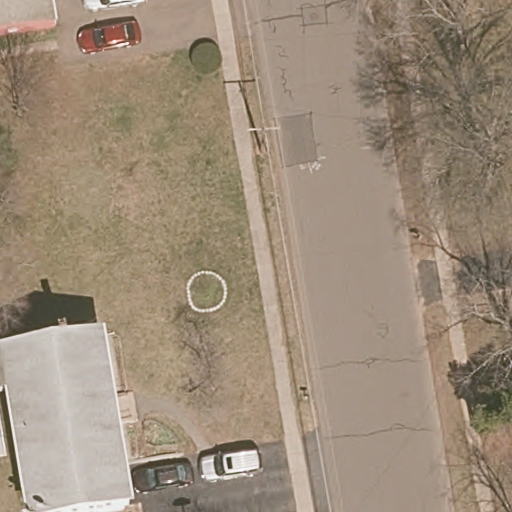DT: (246, 122, 281, 152)
